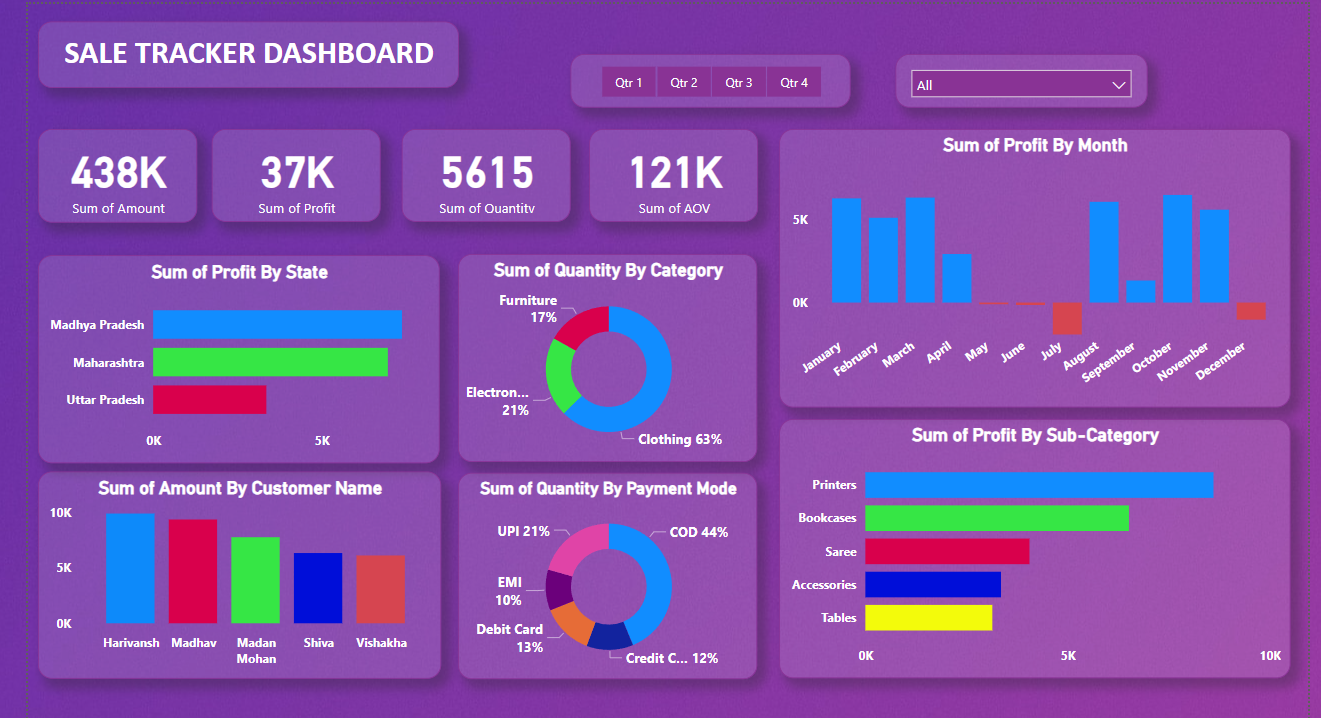

The page's visual inventory and layout, read from the dashboard file:
{"tool":"powerbi","page":{"name":"Page 1","canvas":[1280,720],"ordinal":0},"visuals":[{"type":"textbox","box":[9.8,17.1,420.5,66],"z":0},{"type":"columnChart","title":"Sum of Profit By Month","fields":{"Y":["Details.Profit"],"Category":["Orders.Order Date.Variation.Date Hierarchy.Month"]},"box":[751.8,124.7,511,278.7],"z":1000},{"type":"barChart","title":"Sum of Profit By Sub-Category","fields":{"Category":["Details.Sub-Category"],"Y":["Details.Profit"]},"box":[751.8,415.6,511,259.2],"z":2000},{"type":"donutChart","title":"Sum of Quantity By Category","fields":{"Category":["Details.Category"],"Y":["Details.Quantity"]},"box":[430.3,250.6,299.5,207.8],"z":3000},{"type":"donutChart","title":"Sum of Quantity By Payment Mode","fields":{"Y":["Details.Quantity"],"Series":["Details.PaymentMode"]},"box":[430.3,468.2,299.5,206.6],"z":4000},{"type":"card","fields":{"Values":["Details.Amount"]},"box":[9.6,124.8,159,93.2],"z":5000},{"type":"card","fields":{"Values":["Details.Profit"]},"box":[183.4,124.7,168.7,92.9],"z":6000},{"type":"card","fields":{"Values":["Details.Quantity"]},"box":[374.1,124.7,168.7,92.9],"z":7000},{"type":"card","fields":{"Values":["Details.AOV"]},"box":[561.1,124.7,168.7,92.9],"z":8000},{"type":"barChart","title":"Sum of Profit By State","fields":{"Y":["Details.Profit"],"Category":["Orders.State"]},"box":[9.6,250.9,401.7,208.4],"z":9000},{"type":"columnChart","title":"Sum of Amount By Customer Name","fields":{"Category":["Orders.CustomerName"],"Y":["Details.Amount"]},"box":[9.6,467.5,403.1,207],"z":10000},{"type":"slicer","fields":{"Values":["Orders.Order Date.Variation.Date Hierarchy.Quarter"]},"box":[542.8,50.1,279.9,53.8],"z":10001},{"type":"slicer","fields":{"Values":["Orders.State"]},"box":[867.9,50.1,251.8,53.8],"z":10002}]}

Visuals, with their boxes on the page's 1280x720 design canvas (x1, y1, x2, y2). These are canvas units, not pixel positions in the 1321x718 screenshot, which may show the page scaled, cropped or inside an application window:
textbox: x1=10 y1=17 x2=430 y2=83
"Sum of Profit By Month" columnChart: x1=752 y1=125 x2=1263 y2=403
"Sum of Profit By Sub-Category" barChart: x1=752 y1=416 x2=1263 y2=675
"Sum of Quantity By Category" donutChart: x1=430 y1=251 x2=730 y2=458
"Sum of Quantity By Payment Mode" donutChart: x1=430 y1=468 x2=730 y2=675
card - Details.Amount: x1=10 y1=125 x2=169 y2=218
card - Details.Profit: x1=183 y1=125 x2=352 y2=218
card - Details.Quantity: x1=374 y1=125 x2=543 y2=218
card - Details.AOV: x1=561 y1=125 x2=730 y2=218
"Sum of Profit By State" barChart: x1=10 y1=251 x2=411 y2=459
"Sum of Amount By Customer Name" columnChart: x1=10 y1=468 x2=413 y2=674
slicer - Orders.Order Date.Variation.Date Hierarchy.Quarter: x1=543 y1=50 x2=823 y2=104
slicer - Orders.State: x1=868 y1=50 x2=1120 y2=104
